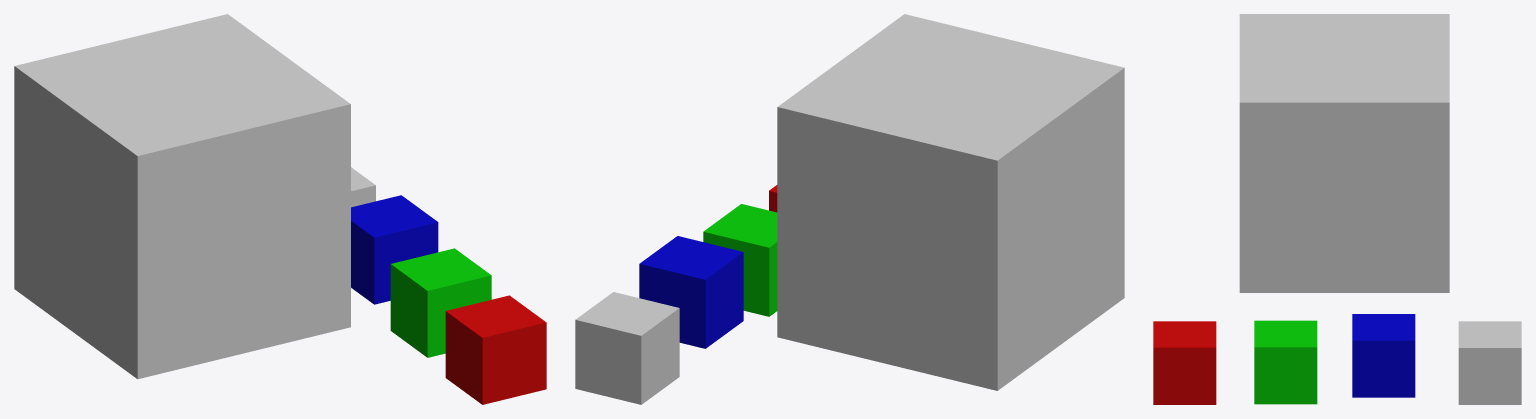
The model's file is cena.gltf.
3 renders of one model, left to right at view 1: azimuth 30°, elevation 25°; view 2: azimuth 150°, elevation 25°; view 3: azimuth 270°, elevation 25°, orthographic. The views are drawn at different scales.
Parts seen in each view (by area): view 1: Cubo, Botao.1, Botao.2, Botao.3, Botao.4; view 2: Cubo, Botao.4, Botao.3, Botao.2; view 3: Cubo, Botao.2, Botao.1, Botao.3, Botao.4.
Part boxes in pixels (x1=…): Cubo: x1=14, y1=14, x2=350, y2=379; Botao.1: x1=445, y1=295, x2=546, y2=404; Botao.2: x1=390, y1=248, x2=491, y2=357; Botao.3: x1=351, y1=195, x2=438, y2=304; Botao.4: x1=351, y1=167, x2=375, y2=207; Cubo: x1=777, y1=14, x2=1124, y2=390; Botao.4: x1=575, y1=292, x2=679, y2=404; Botao.3: x1=639, y1=236, x2=743, y2=348; Botao.2: x1=703, y1=204, x2=777, y2=316; Cubo: x1=1239, y1=14, x2=1449, y2=292; Botao.2: x1=1254, y1=320, x2=1317, y2=404; Botao.1: x1=1153, y1=321, x2=1216, y2=404; Botao.3: x1=1352, y1=314, x2=1415, y2=397; Botao.4: x1=1458, y1=321, x2=1521, y2=404.
Size of what is drawn, in the model's own units: 3.44 by 2.54 by 3.51.
